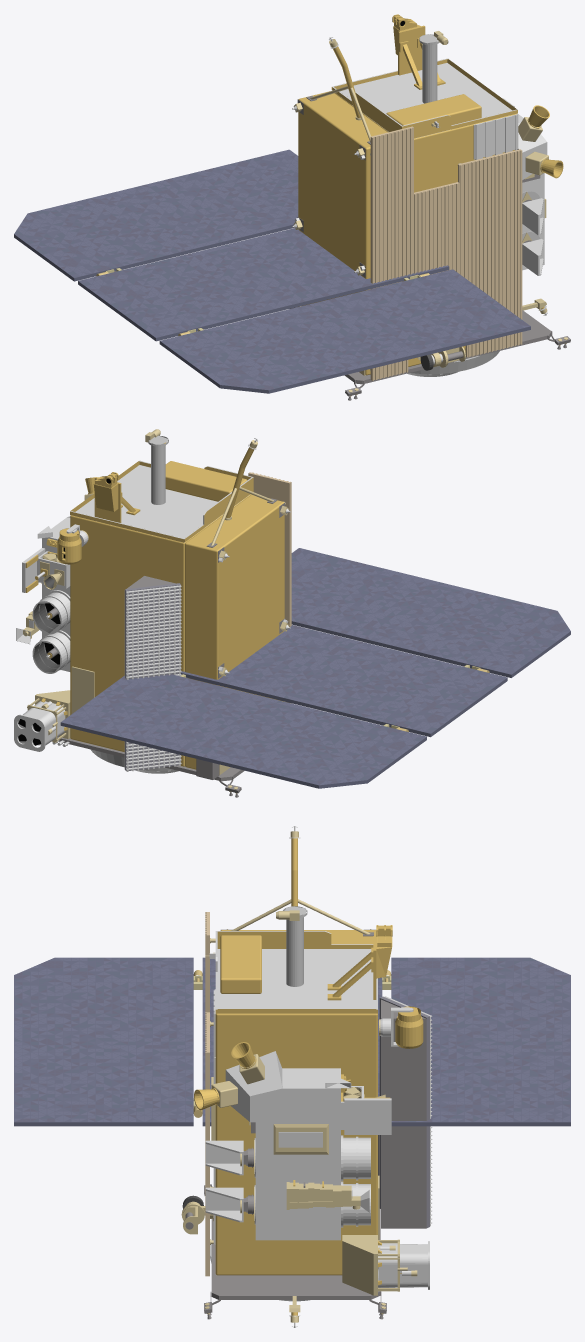
File: probe.glb
The picture shows the model from 3 angles, top to bottom: view 1: azimuth 30°, elevation 25°; view 2: azimuth 150°, elevation 25°; view 3: azimuth 270°, elevation 25°; orthographic projection. The views are drawn at different scales.
Visible parts, largest first — view 1: Layer_4, Layer_0; view 2: Layer_4, Layer_0; view 3: Layer_0, Layer_4.
Part boxes in pixels (left/top/right/bottom): Layer_4: left=14, top=149, right=530, bottom=393; Layer_0: left=290, top=14, right=570, bottom=400; Layer_4: left=60, top=548, right=570, bottom=788; Layer_0: left=14, top=429, right=291, bottom=797; Layer_0: left=181, top=826, right=432, bottom=1327; Layer_4: left=14, top=957, right=570, bottom=1126.
Bounding box in the file's own units: 33.28 × 26.29 × 32.26.
